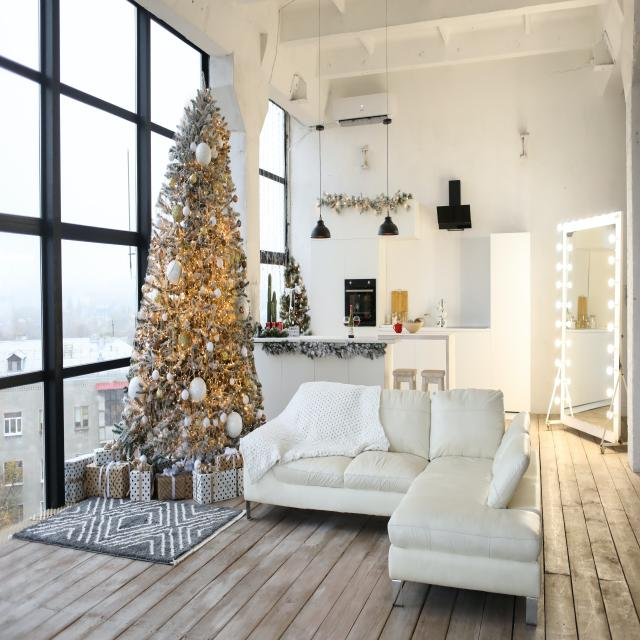floor: (0, 414, 640, 640), (207, 493, 246, 509), (175, 498, 200, 504), (505, 420, 513, 433)
wall: (387, 49, 628, 414), (158, 0, 283, 323), (290, 130, 420, 337), (314, 4, 598, 77), (320, 72, 388, 199), (268, 43, 320, 127), (289, 115, 309, 148), (414, 199, 420, 239)
